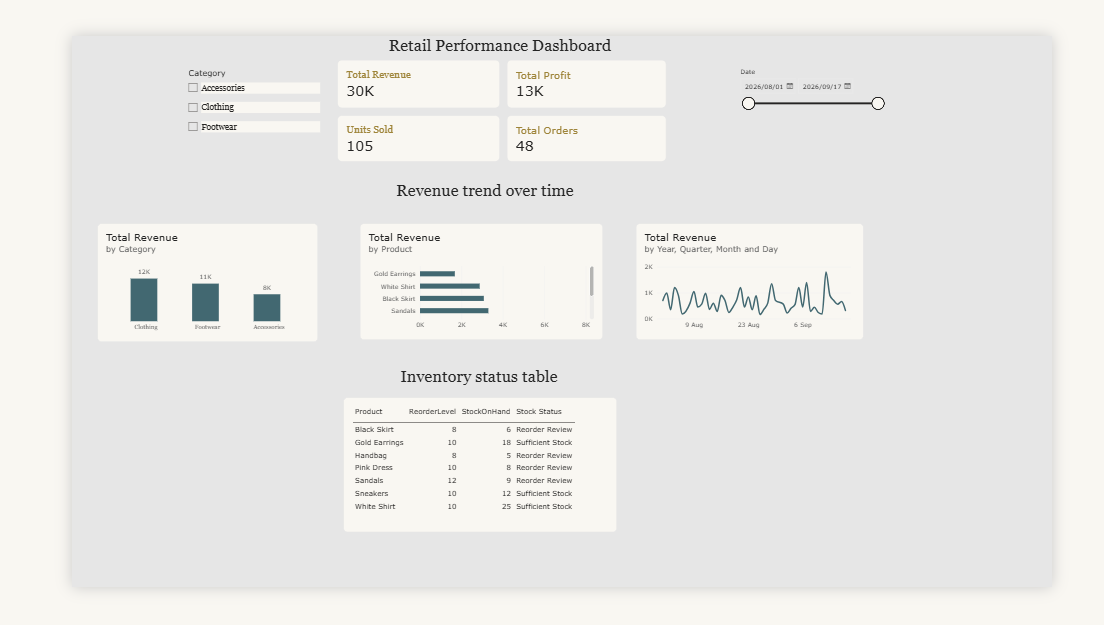

This screenshot's page, from the dashboard's own definition file:
{"tool":"powerbi","page":{"name":"Page 1","canvas":[1920,1080],"ordinal":0},"visuals":[{"type":"cardVisual","fields":{"Data":["Sales_data.Total Revenue"]},"box":[520,48,318,94],"z":0},{"type":"cardVisual","fields":{"Data":["Sales_data.Total Profit"]},"box":[854,48,312,94],"z":1},{"type":"cardVisual","fields":{"Data":["Sales_data.Units Sold"]},"box":[520,156,318,90],"z":2},{"type":"cardVisual","fields":{"Data":["Sales_data.Total Orders"]},"box":[854,156,312,90],"z":3},{"type":"lineChart","fields":{"Category":["Sales_data.Date.Variation.Date Hierarchy.Year","Sales_data.Date.Variation.Date Hierarchy.Quarter","Sales_data.Date.Variation.Date Hierarchy.Month","Sales_data.Date.Variation.Date Hierarchy.Day"],"Y":["Sales_data.Total Revenue"]},"box":[1104.7,368.2,446,228],"z":4},{"type":"columnChart","fields":{"Category":["Sales_data.Category"],"Y":["Sales_data.Total Revenue"]},"box":[49.5,368.2,432,232],"z":5},{"type":"barChart","fields":{"Category":["Sales_data.Product"],"Y":["Sales_data.Total Revenue"]},"box":[566.1,368.2,476,228],"z":6},{"type":"tableEx","fields":{"Values":["inventory_data.Product","inventory_data.ReorderLevel","inventory_data.StockOnHand","inventory_data.Stock Status"]},"box":[533.1,709,536,264],"z":8},{"type":"textbox","box":[484,0,708,58],"z":9},{"type":"slicer","fields":{"Values":["Sales_data.Category"]},"box":[219.9,60.5,266,260],"z":10},{"type":"slicer","fields":{"Values":["Sales_data.Date"]},"box":[1302.1,62.5,304.2,127.1],"z":11},{"type":"textbox","box":[456.2,285.8,708,58],"z":12},{"type":"textbox","box":[445.2,648.6,708,58],"z":13}]}

Visuals, with their boxes in screenshot pixels (x1, y1, x2, y2), scaled from the page's 1920x1080 canvas onto the 1104x625 screenshot:
cardVisual - Sales_data.Total Revenue: <region>299, 28, 482, 82</region>
cardVisual - Sales_data.Total Profit: <region>491, 28, 670, 82</region>
cardVisual - Sales_data.Units Sold: <region>299, 90, 482, 142</region>
cardVisual - Sales_data.Total Orders: <region>491, 90, 670, 142</region>
lineChart - Sales_data.Date.Variation.Date Hierarchy.Year x Sales_data.Date.Variation.Date Hierarchy.Quarter: <region>635, 213, 892, 345</region>
columnChart - Sales_data.Category x Sales_data.Total Revenue: <region>28, 213, 277, 347</region>
barChart - Sales_data.Product x Sales_data.Total Revenue: <region>326, 213, 599, 345</region>
tableEx - inventory_data.Product x inventory_data.ReorderLevel: <region>307, 410, 615, 563</region>
textbox: <region>278, 0, 685, 34</region>
slicer - Sales_data.Category: <region>126, 35, 279, 185</region>
slicer - Sales_data.Date: <region>749, 36, 924, 110</region>
textbox: <region>262, 165, 669, 199</region>
textbox: <region>256, 375, 663, 409</region>
